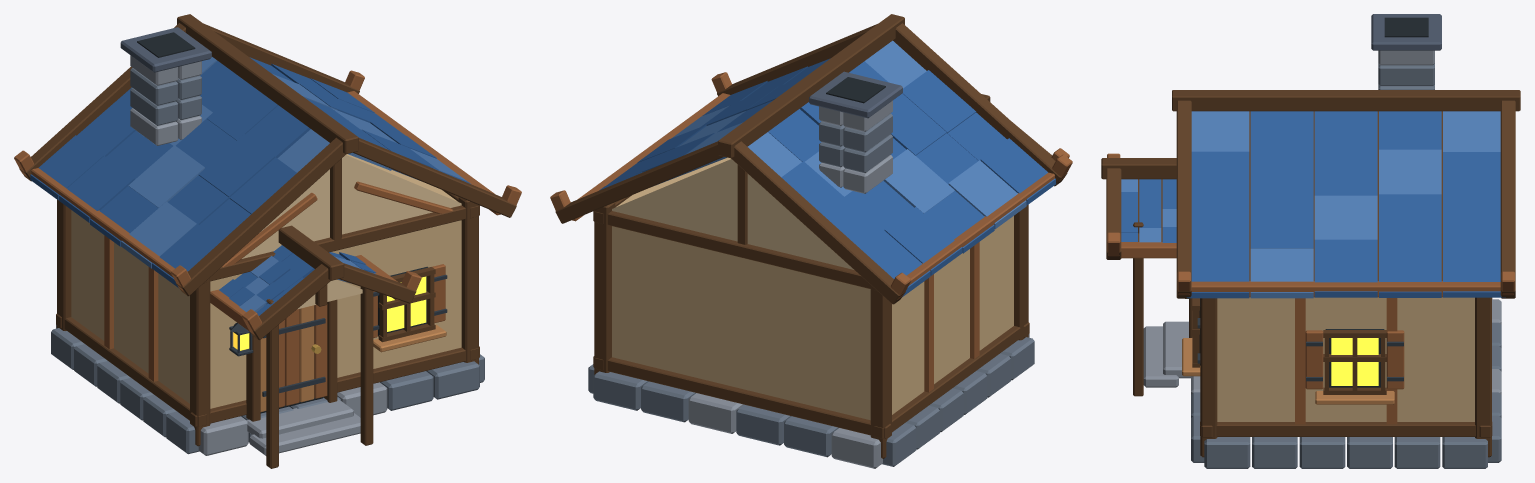
File: HouseBlue.glb
The picture shows the model from 3 angles, left to right: view 1: azimuth 30°, elevation 25°; view 2: azimuth 150°, elevation 25°; view 3: azimuth 270°, elevation 25°; orthographic projection. The views are drawn at different scales.
Parts seen in each view (by area): view 1: Solid plaster shell, Plaster gable, Ridge cap, Bargeboard, Massive corner timber, Facade horizontal timber.002, Bargeboard.002, Massive corner timber.002, Facade horizontal timber, Overlapping roof tile.006, Overlapping roof tile.012, Side horizontal timber (+60 smaller); view 2: Solid plaster shell, Plaster gable.001, Ridge cap, Bargeboard.001, Facade horizontal timber.001, Facade horizontal timber.003, Bargeboard, Massive corner timber.001, Bargeboard.003, Massive corner timber.003, Overlapping roof tile.012, Side horizontal timber (+43 smaller); view 3: Solid plaster shell, Ridge cap, Side horizontal timber.001, Overlapping roof tile.031, Overlapping roof tile.033, Eave fascia.001, Overlapping roof tile.037, Overlapping roof tile.027, Overlapping roof tile.026, Bargeboard.002, Bargeboard.003, Overlapping roof tile.039 (+45 smaller).
Boxes of the visible parts, bbox=[...] form: Solid plaster shell: bbox=[71, 154, 461, 408]; Plaster gable: bbox=[242, 155, 461, 258]; Ridge cap: bbox=[177, 14, 358, 154]; Bargeboard: bbox=[176, 137, 345, 296]; Massive corner timber: bbox=[190, 278, 210, 446]; Facade horizontal timber.002: bbox=[210, 205, 479, 281]; Bargeboard.002: bbox=[353, 138, 516, 217]; Massive corner timber.002: bbox=[458, 197, 478, 364]; Facade horizontal timber: bbox=[190, 346, 479, 426]; Overlapping roof tile.006: bbox=[198, 134, 274, 198]; Overlapping roof tile.012: bbox=[128, 145, 204, 207]; Side horizontal timber: bbox=[64, 317, 206, 426]; Solid plaster shell: bbox=[612, 157, 1013, 420]; Plaster gable.001: bbox=[612, 159, 853, 269]; Ridge cap: bbox=[718, 14, 904, 158]; Bargeboard.001: bbox=[731, 141, 905, 304]; Facade horizontal timber.001: bbox=[593, 356, 890, 438]; Facade horizontal timber.003: bbox=[593, 211, 870, 288]; Bargeboard: bbox=[893, 23, 1067, 186]; Massive corner timber.001: bbox=[870, 285, 891, 458]; Bargeboard.003: bbox=[555, 141, 723, 223]; Massive corner timber.003: bbox=[594, 202, 615, 374]; Overlapping roof tile.012: bbox=[883, 149, 954, 213]; Side horizontal timber: bbox=[874, 326, 1020, 438]; Solid plaster shell: bbox=[1217, 297, 1474, 421]; Ridge cap: bbox=[1172, 90, 1520, 111]; Side horizontal timber.001: bbox=[1200, 422, 1492, 436]; Overlapping roof tile.031: bbox=[1250, 194, 1313, 248]; Overlapping roof tile.033: bbox=[1379, 194, 1441, 247]; Eave fascia.001: bbox=[1191, 281, 1500, 297]; Overlapping roof tile.037: bbox=[1314, 239, 1377, 297]; Overlapping roof tile.027: bbox=[1314, 150, 1377, 195]; Overlapping roof tile.026: bbox=[1250, 149, 1313, 194]; Bargeboard.002: bbox=[1176, 100, 1191, 298]; Bargeboard.003: bbox=[1500, 100, 1515, 298]; Overlapping roof tile.039: bbox=[1443, 239, 1505, 297].
Bounding box in the file's own units: 11.71 × 10.41 × 11.9.
